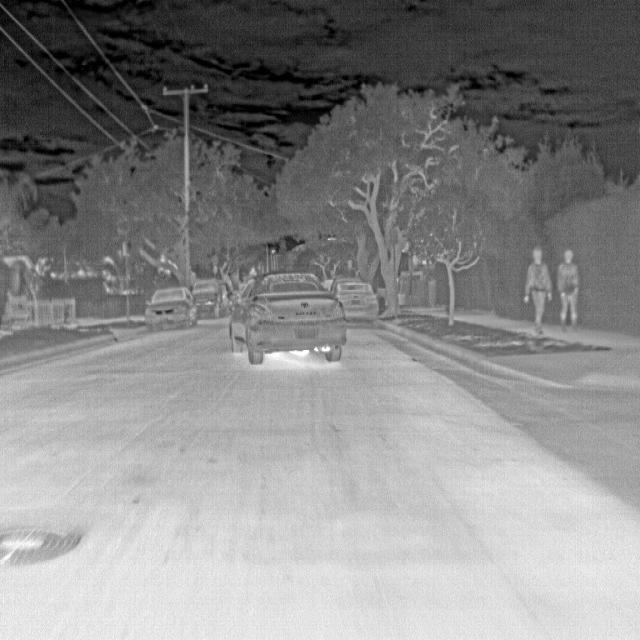Pedestrian: (522, 243, 555, 335), (554, 245, 581, 330)
Vehicle: (227, 269, 345, 366), (144, 286, 198, 332), (331, 280, 379, 328), (190, 277, 224, 318)
